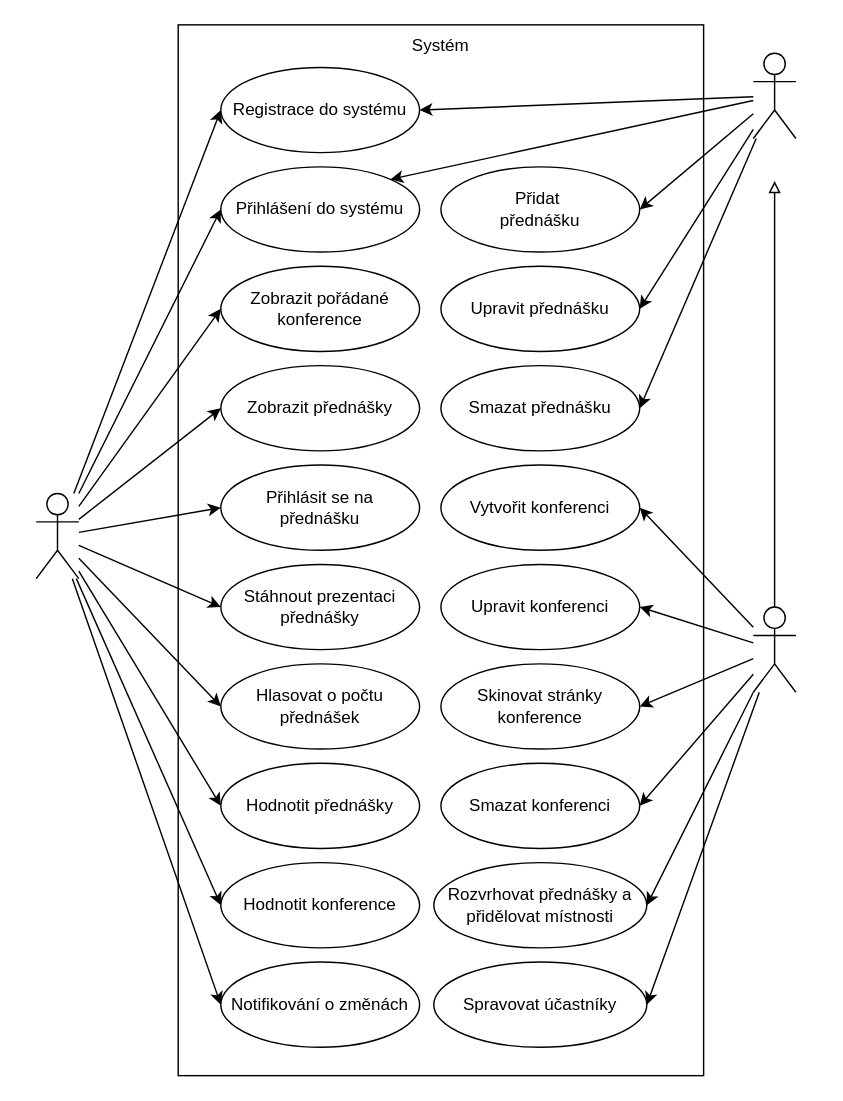
Some shapes in this 843 by 1101 pixel diagram are drawn without their labels. Each missing label, with the box of its shape:
Organizátor: (752, 606, 796, 692)
Účastník: (35, 492, 79, 579)
Řečník: (752, 52, 796, 138)
